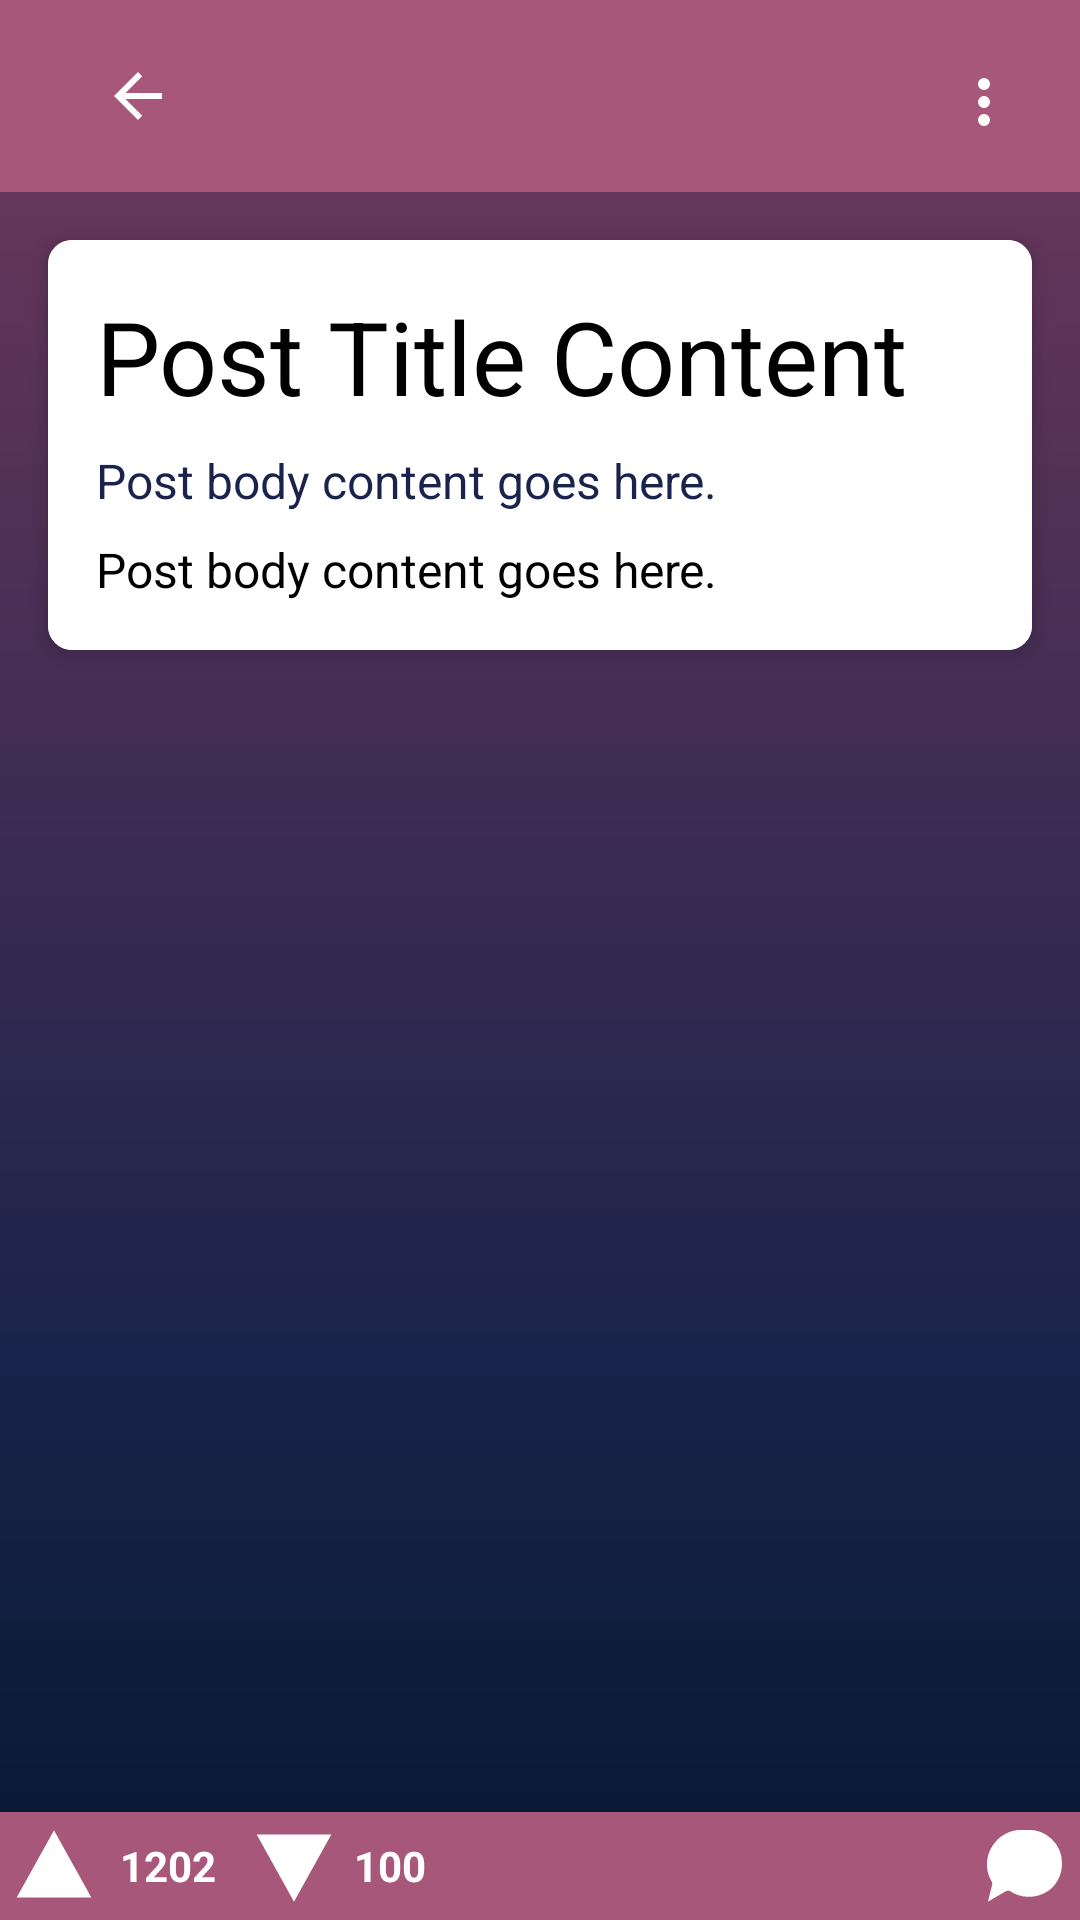

Named icons in this screenshot (1080w x 1920h) and their centers, [x,y]:
back button: [138,96]
Downvote: [294,1867]
menu: [984,102]
Reply: [1024,1866]
Upvote: [54,1864]
